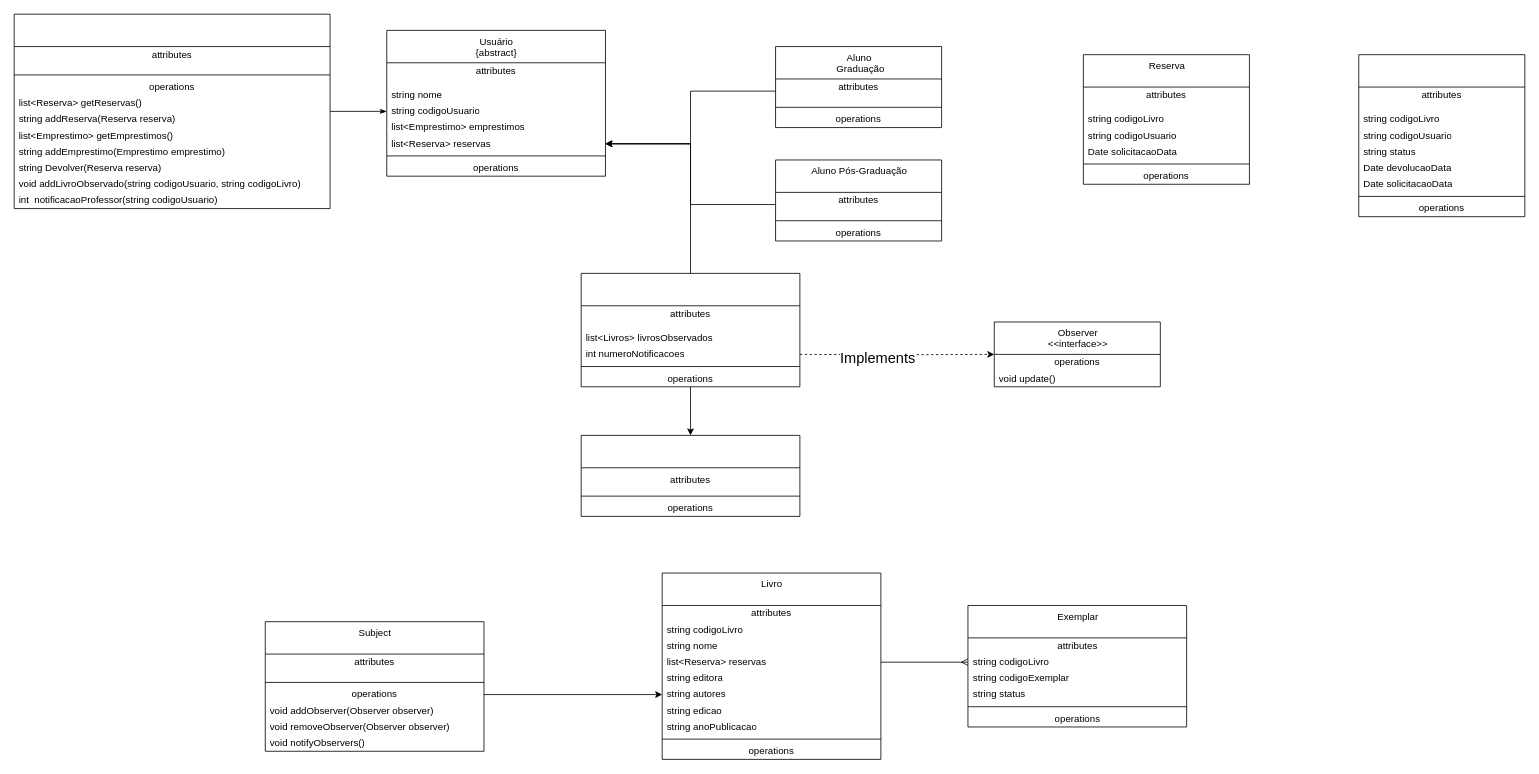
Image size: 1539x774. Some labels were removed from this diagram. Each missing label, with the box of its shape:
Biblioteca: (13, 13, 330, 209)
Emprestimo: (1358, 54, 1525, 217)
Professor: (580, 435, 800, 516)
usuarioObservador: (580, 273, 800, 387)
